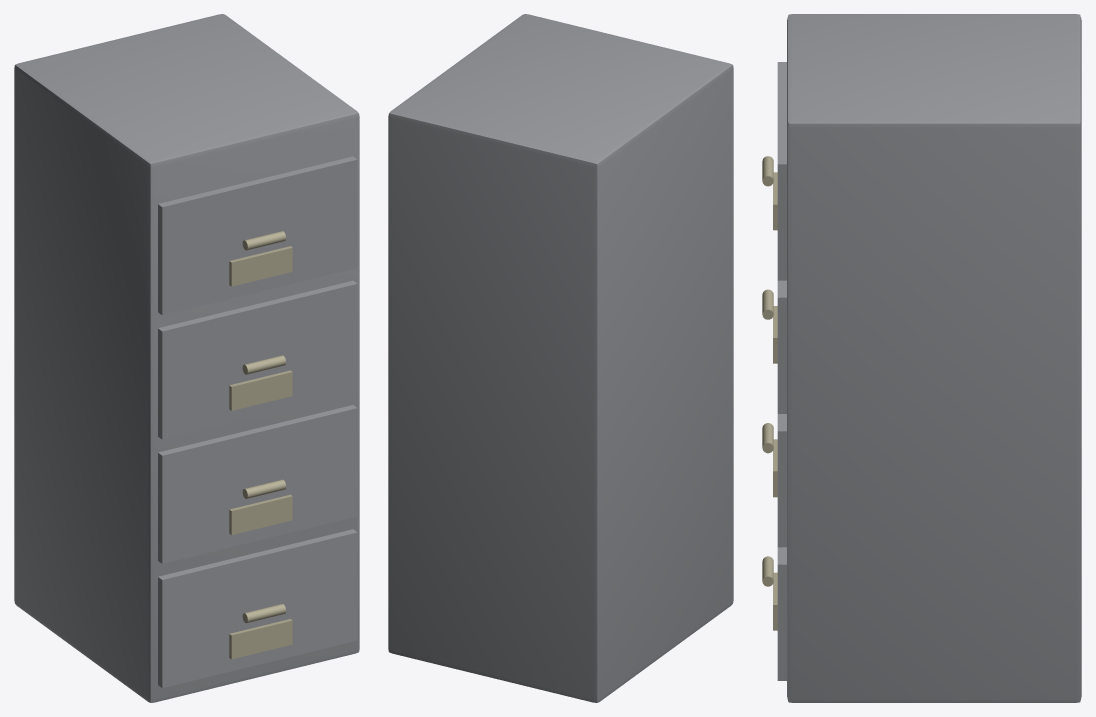
The model's file is PR_filing_cabinet.fbx.
The picture shows the model from 3 angles, left to right: view 1: azimuth 30°, elevation 25°; view 2: azimuth 150°, elevation 25°; view 3: azimuth 270°, elevation 25°; orthographic projection. The views are drawn at different scales.
Parts seen in each view (by area): view 1: PR_filing_cabinet; view 2: PR_filing_cabinet; view 3: PR_filing_cabinet.
Part boxes in pixels (x1=…): PR_filing_cabinet: x1=14, y1=14, x2=359, y2=702; PR_filing_cabinet: x1=388, y1=14, x2=733, y2=702; PR_filing_cabinet: x1=762, y1=14, x2=1081, y2=702.
Size of the model in its own units: 0.55 by 1.35 by 0.672.
